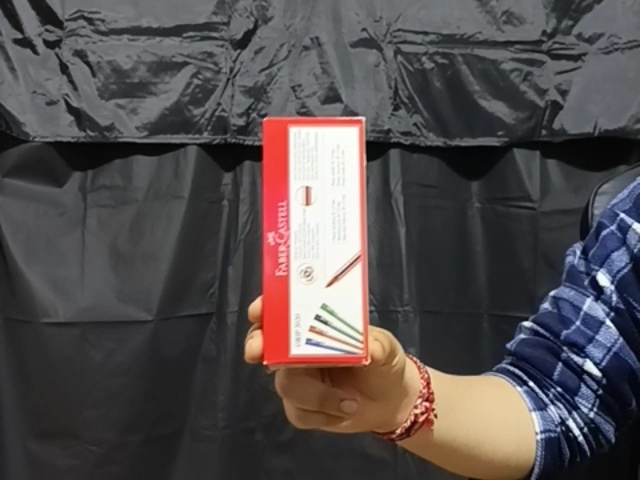xd: (260, 114, 370, 367)
